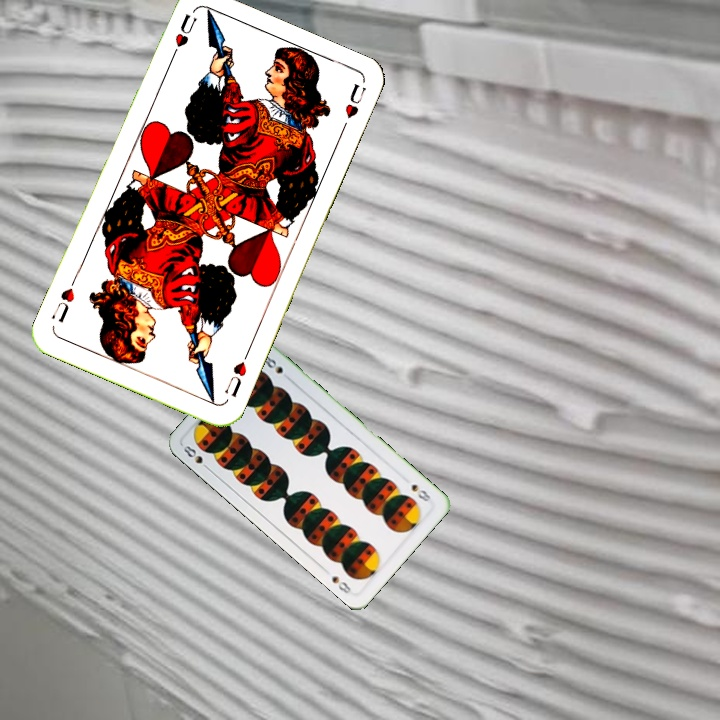HU: (166, 10, 200, 64), (220, 347, 252, 400)
S8: (179, 441, 213, 473), (407, 480, 433, 504)
